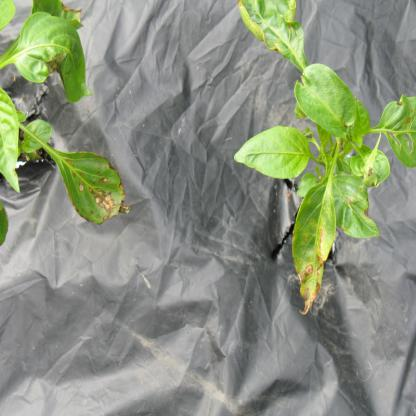Bell_pepper leaf spot: (45, 146, 139, 232), (290, 163, 337, 331), (11, 12, 91, 103), (232, 1, 310, 70), (334, 169, 383, 245)
